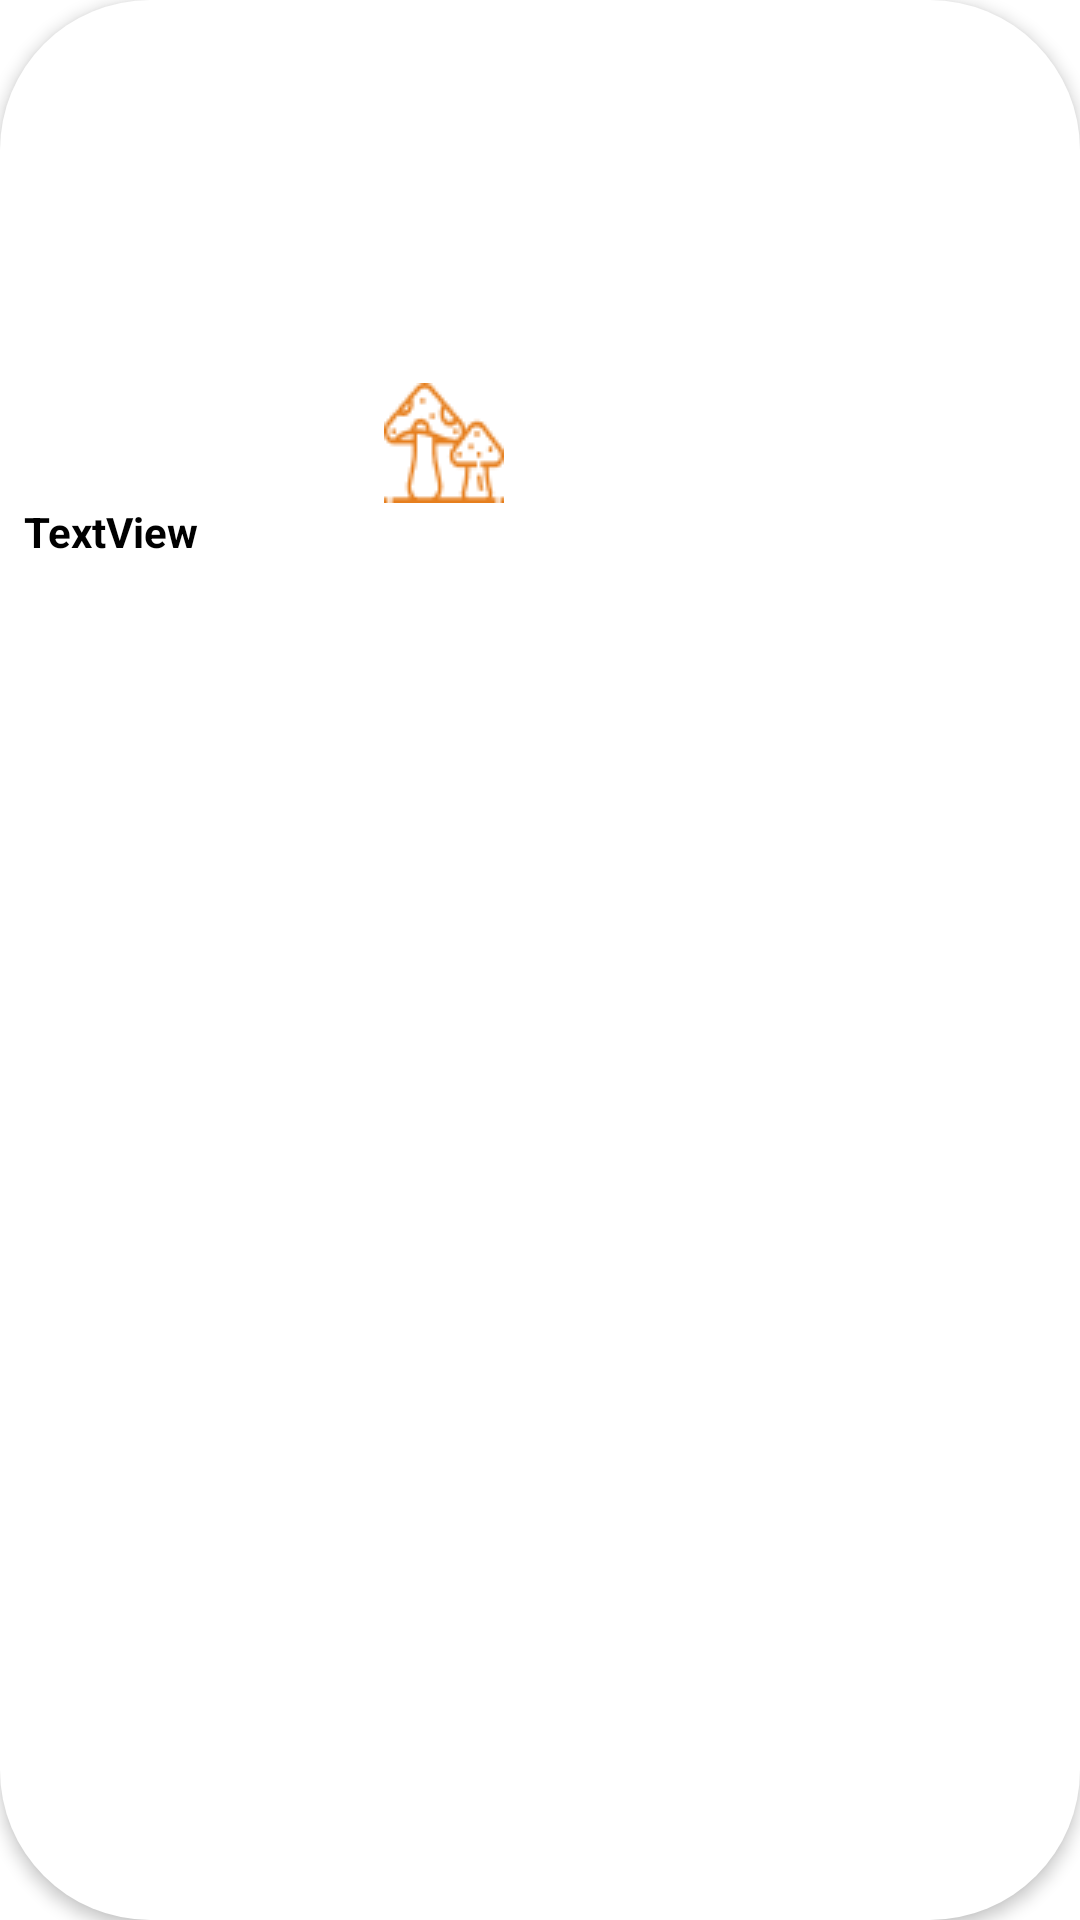

Screen size 1080 x 1920. Icon name, then its center in pixels as [x,y]:
category trangchu: [444,443]
